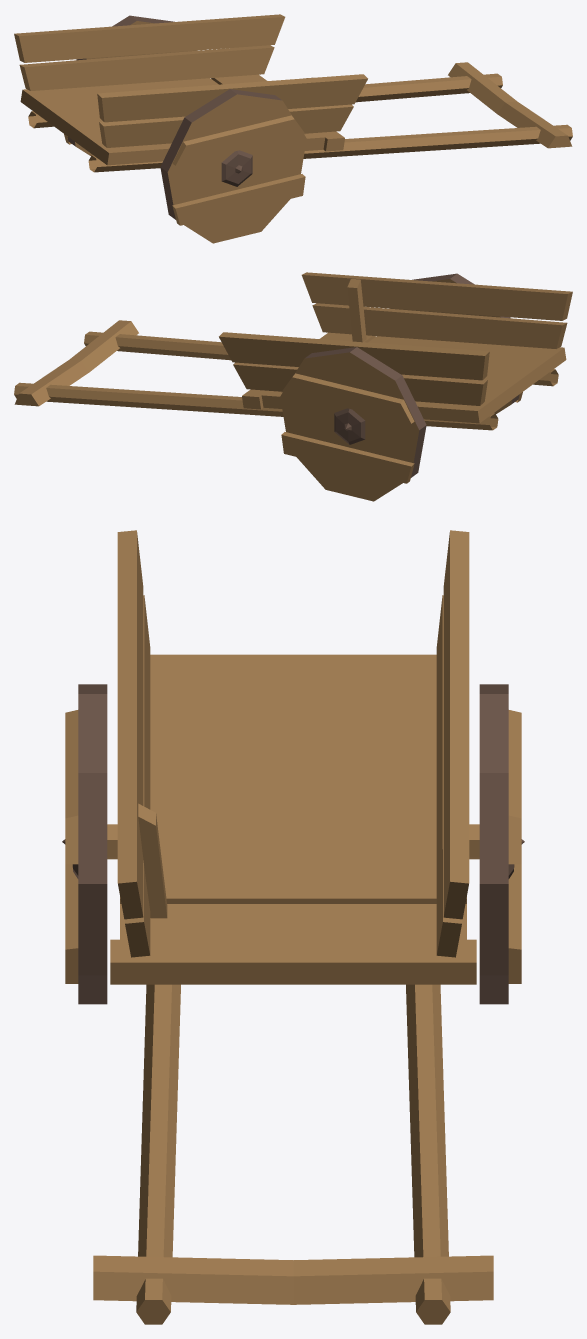
The model's file is carriage_01.fbx.
3 views of the same model, one above another, from view 1: azimuth 30°, elevation 25°; view 2: azimuth 150°, elevation 25°; view 3: azimuth 270°, elevation 25° (orthographic). The views are drawn at different scales.
Visible parts, largest first — view 1: carriage_01, carriage_01-2; view 2: carriage_01, carriage_01-2; view 3: carriage_01, carriage_01-2.
Part boxes in pixels (box(x1,y1,x2,y2)): carriage_01: box(14, 14, 572, 172); carriage_01-2: box(64, 15, 306, 243); carriage_01: box(14, 272, 572, 430); carriage_01-2: box(280, 273, 522, 501); carriage_01: box(93, 530, 493, 1324); carriage_01-2: box(62, 684, 524, 1004).
Size of the model in its own units: 347 by 115 by 146.
